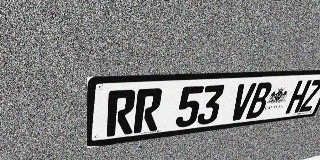3: (196, 85, 225, 125)
5: (175, 86, 204, 128)
B: (245, 82, 274, 119)
H: (285, 80, 312, 114)
R: (106, 89, 137, 137), (133, 88, 163, 133)
V: (228, 83, 257, 121)
Z: (298, 79, 320, 112)
